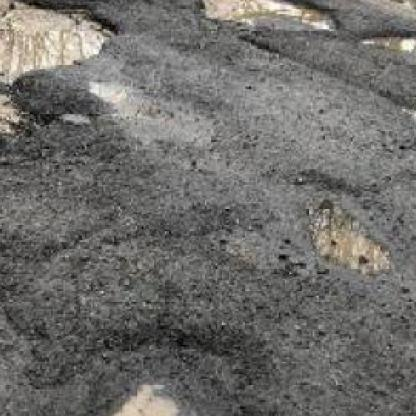pothole: (0, 0, 127, 136), (305, 198, 393, 277), (197, 0, 339, 33), (359, 25, 416, 72)
